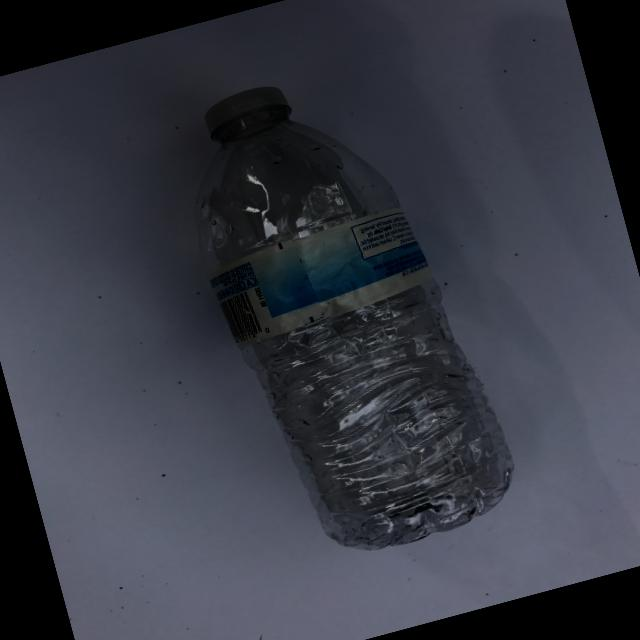Plastic: (104, 36, 570, 602)
